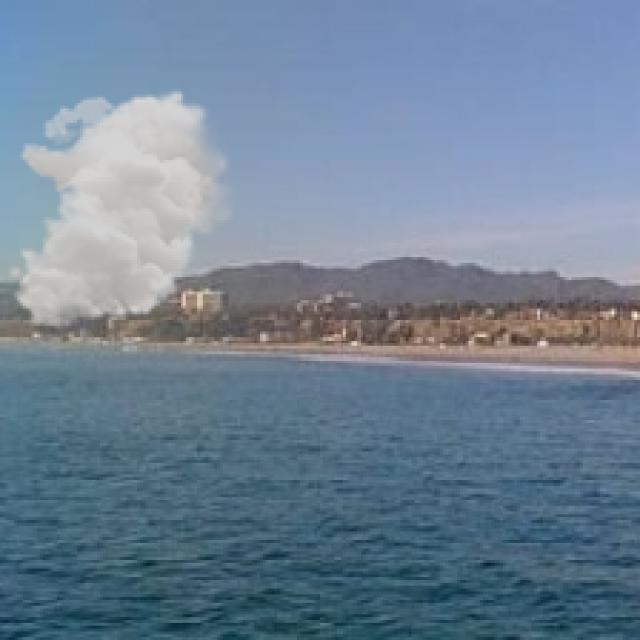smoke: (6, 89, 240, 328)
